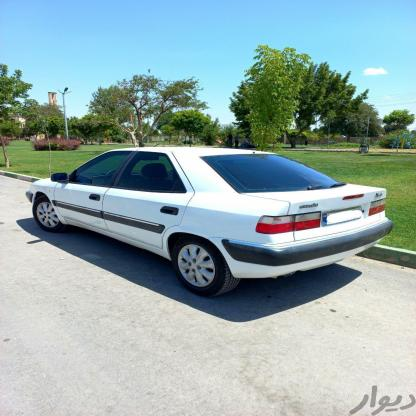Car: (19, 139, 405, 301)
